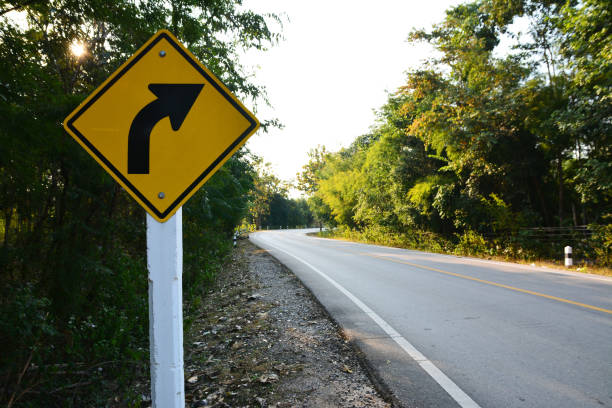right turn: (64, 30, 259, 222)
